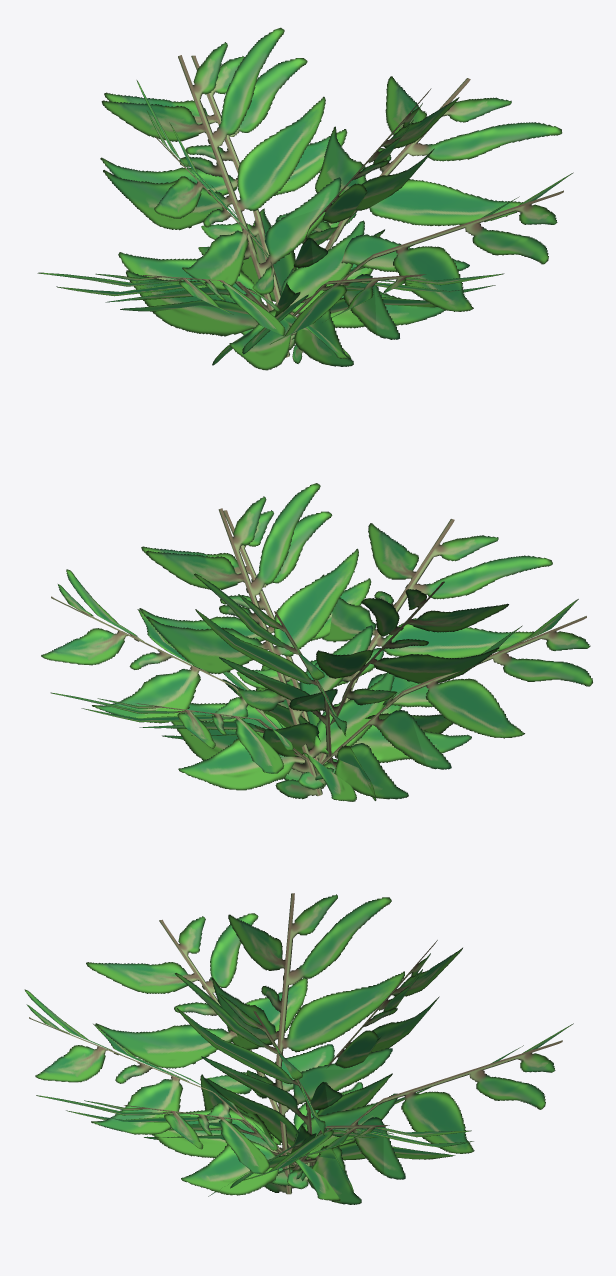
Rendered from Bush.fbx.
3 views of the same model, one above another, from view 1: azimuth 30°, elevation 25°; view 2: azimuth 150°, elevation 25°; view 3: azimuth 270°, elevation 25° (orthographic). The views are drawn at different scales.
Visible parts, largest first — view 1: Bush; view 2: Bush; view 3: Bush.
Boxes of the visible parts, bbox=[...] form: Bush: bbox=[37, 27, 573, 370]; Bush: bbox=[41, 483, 592, 801]; Bush: bbox=[24, 893, 573, 1204].
Size of the model in its own units: 57.76 by 29.73 by 54.53.
